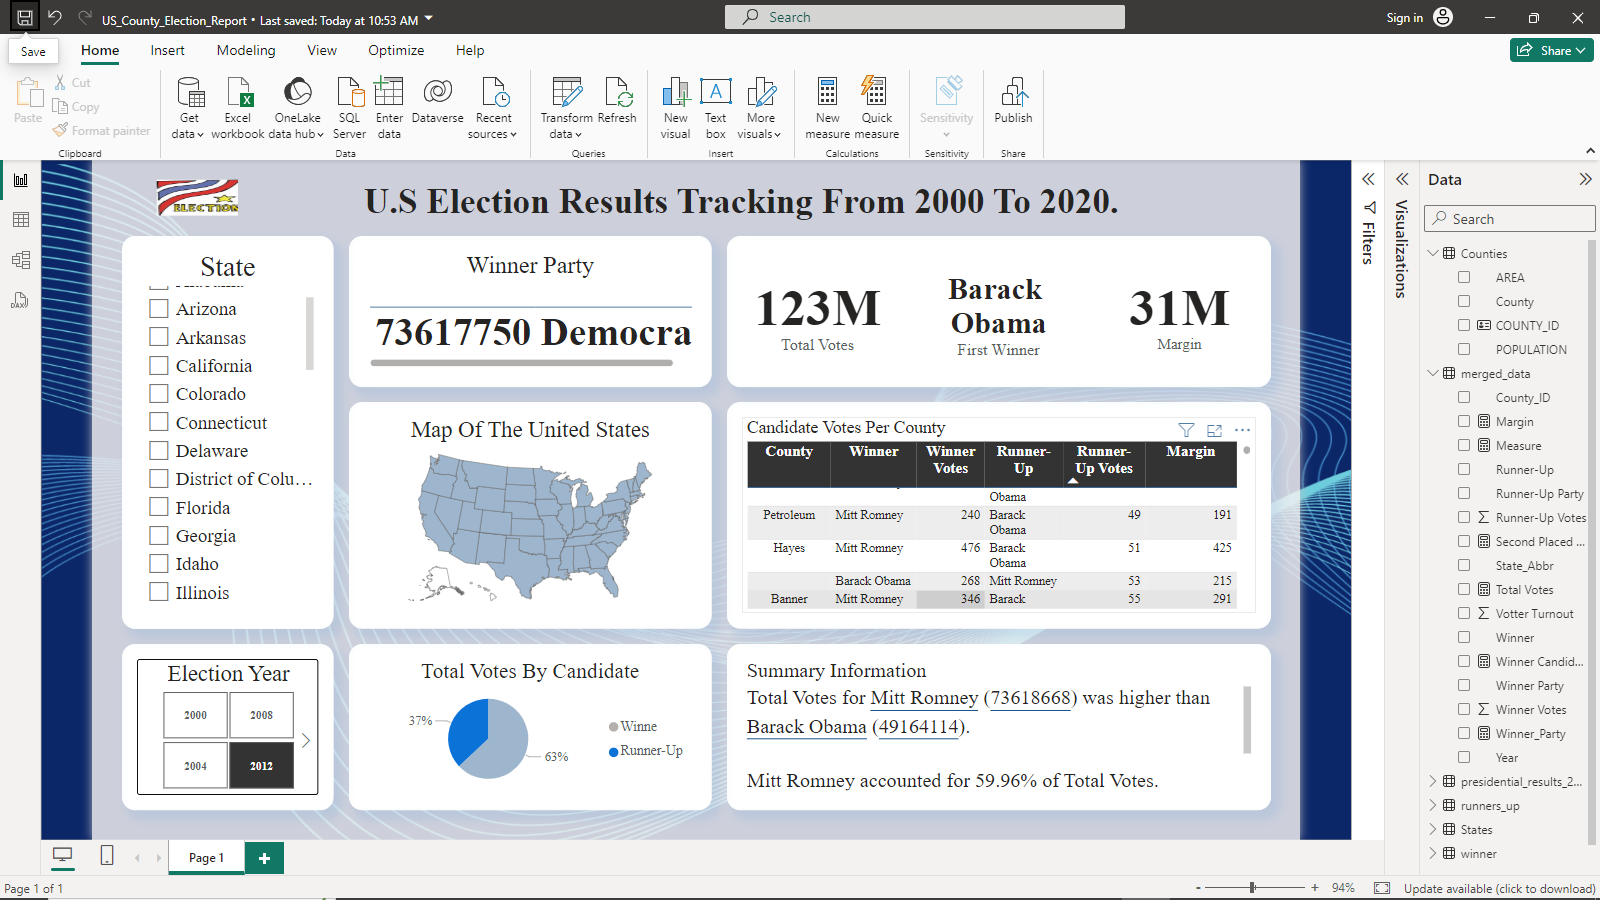

The dashboard page shown, as its layout file describes it:
{"tool":"powerbi","page":{"name":"Page 1","canvas":[1280,720],"ordinal":0},"visuals":[{"type":"shape","box":[672,256,576,240],"z":0},{"type":"shape","box":[672,512,576,176],"z":1000},{"type":"shape","box":[672,80,576,160],"z":2000},{"type":"shape","box":[272,512,384,176],"z":3000},{"type":"shape","box":[272,80,384,160],"z":4000},{"type":"shape","box":[32,512,224,176],"z":5000},{"type":"shape","box":[32,80,224,416],"z":6000},{"type":"shape","box":[272,256,384,240],"z":7000},{"type":"tableEx","title":"Candidate Votes Per County","fields":{"Values":["Counties.NAME","merged_data.winner.candidate","merged_data.winner.votes","merged_data.Runners_up.candidate","merged_data.Runner_up.votes","merged_data.Candidate Vote Difference"]},"box":[688,272,544,208],"z":8000},{"type":"card","title":"Voter Turnout","fields":{"Values":["merged_data.Total Votes"]},"box":[688,96,160,128],"z":9000},{"type":"card","title":"Margin","fields":{"Values":["merged_data.Candidate Vote Difference"]},"box":[1072,96,160,128],"z":10000},{"type":"card","title":"Winner","fields":{"Values":["Min(merged_data.WINNER)"]},"box":[864,96,192,128],"z":11000},{"type":"slicer","title":"Election Year","fields":{"Values":["merged_data.YEAR"]},"box":[48,528,192,144],"z":12000},{"type":"slicer","title":"State","fields":{"Values":["States.NAME"]},"box":[48,96,192,384],"z":13000},{"type":"tableEx","title":"Winner Party","fields":{"Values":["merged_data.Total Votes","merged_data.WINNER PARTY"]},"box":[288,96,352,128],"z":14000},{"type":"shapeMap","title":"Map Of The United States","fields":{"Category":["States.NAME"]},"box":[288,272,352,208],"z":15000},{"type":"pieChart","title":"Total Votes By Candidate","fields":{"Y":["Sum(merged_data.WINNER VOTES)","Sum(merged_data.RUNNER-UP VOTES)"]},"box":[288,528,352,144],"z":16000},{"type":"textbox","title":"Summary Information","box":[688,528,544,144],"z":17000},{"type":"textbox","box":[207.8,16.5,960,56.1],"z":18000},{"type":"image","box":[64,16,96,48],"z":19000}]}

Visuals, with their boxes on the page's 1280x720 design canvas (x1, y1, x2, y2). These are canvas units, not pixel positions in the 1600x900 screenshot, which may show the page scaled, cropped or inside an application window:
shape: box(672, 256, 1248, 496)
shape: box(672, 512, 1248, 688)
shape: box(672, 80, 1248, 240)
shape: box(272, 512, 656, 688)
shape: box(272, 80, 656, 240)
shape: box(32, 512, 256, 688)
shape: box(32, 80, 256, 496)
shape: box(272, 256, 656, 496)
"Candidate Votes Per County" tableEx: box(688, 272, 1232, 480)
"Voter Turnout" card: box(688, 96, 848, 224)
"Margin" card: box(1072, 96, 1232, 224)
"Winner" card: box(864, 96, 1056, 224)
"Election Year" slicer: box(48, 528, 240, 672)
"State" slicer: box(48, 96, 240, 480)
"Winner Party" tableEx: box(288, 96, 640, 224)
"Map Of The United States" shapeMap: box(288, 272, 640, 480)
"Total Votes By Candidate" pieChart: box(288, 528, 640, 672)
"Summary Information" textbox: box(688, 528, 1232, 672)
textbox: box(208, 16, 1168, 73)
image: box(64, 16, 160, 64)
